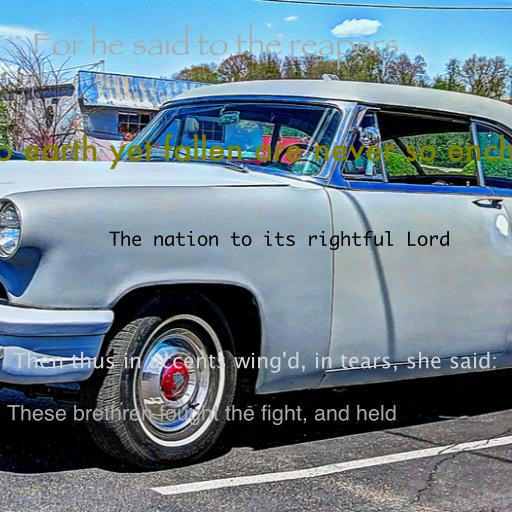Futura: (0, 134, 512, 170)
Lucida Grande: (12, 351, 498, 373)
Monaco: (108, 230, 450, 251)
Papyrus: (31, 24, 399, 71)
SF Pro: (7, 404, 397, 426)
